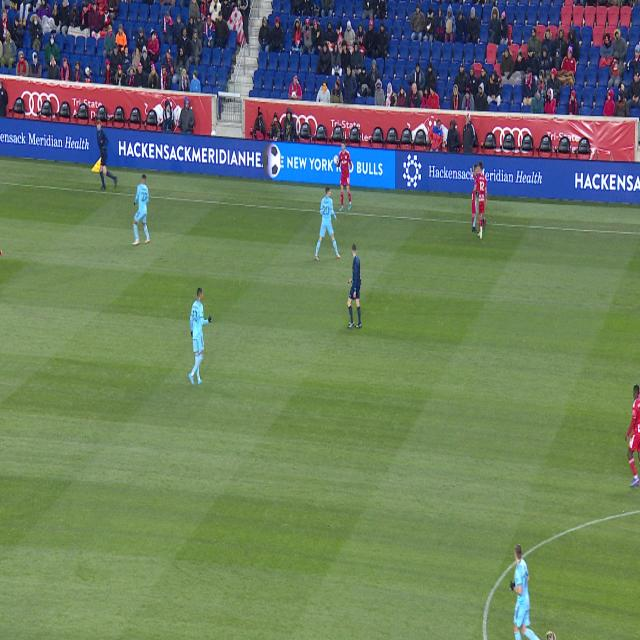player: (510, 543, 539, 640), (189, 288, 212, 386), (315, 186, 341, 260), (625, 385, 640, 487), (132, 174, 151, 245), (472, 161, 487, 239), (472, 192, 479, 232), (546, 631, 556, 640), (474, 165, 478, 178), (483, 217, 485, 230), (479, 213, 481, 220)
referee: (348, 244, 362, 328)
